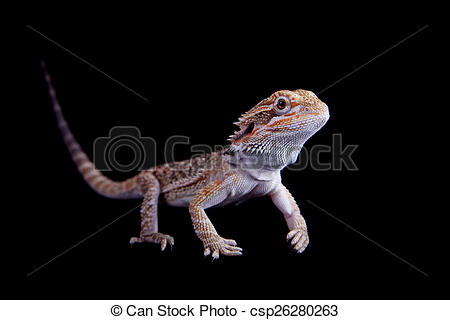bearded: (41, 67, 329, 259)
